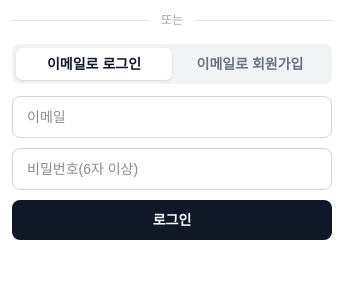
Test: PartnerEmailAuthForm › 로그인 실패 시 알기 쉬운 한국어 에러 메시지를 보여준다
The width and height of the screenshot is (349, 283).
Type "owner@example.com" into the field with placeholder "이메일". click: (172, 117)
box: [12,96,332,138]
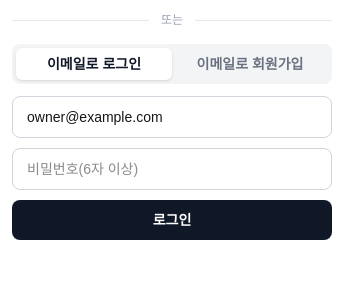
Type "password123" into the password field with placeholder "비밀번호(6자 이상)". click: (172, 169)
box: [12,148,332,190]
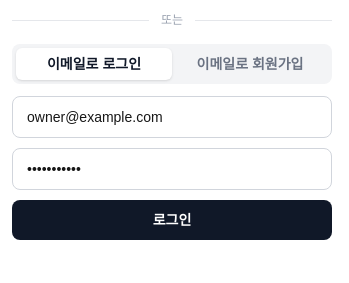
Click the button "로그인". click: (172, 220)
box: [12,200,332,240]
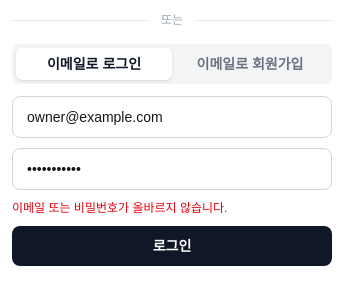
Result: the text "이메일 또는 비밀번호가 올바르지 않습니다." is shown at [12,201,227,215]
